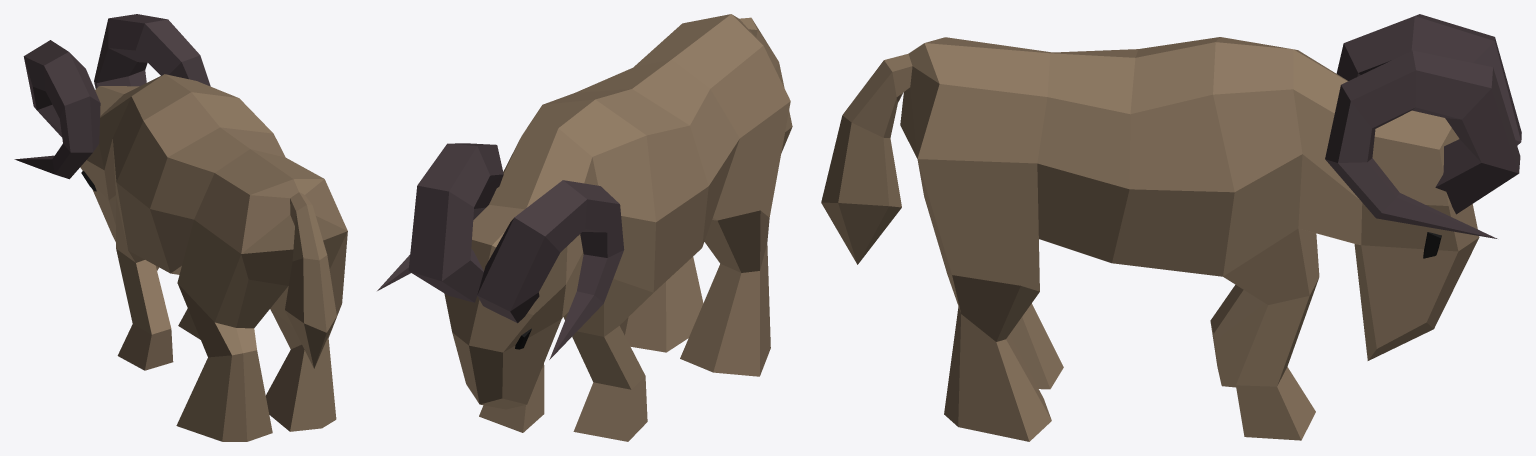
Rendered from Sheep.fbx.
The picture shows the model from 3 angles, left to right: view 1: azimuth 30°, elevation 25°; view 2: azimuth 150°, elevation 25°; view 3: azimuth 270°, elevation 25°; orthographic projection. The views are drawn at different scales.
Parts seen in each view (by area): view 1: Ram_b_GEO; view 2: Ram_b_GEO; view 3: Ram_b_GEO.
Boxes of the visible parts, bbox=[...] form: Ram_b_GEO: bbox=[14, 14, 347, 441]; Ram_b_GEO: bbox=[377, 14, 792, 441]; Ram_b_GEO: bbox=[821, 14, 1521, 441].
Size of the model in its own units: 1771 by 5026 by 2899.
